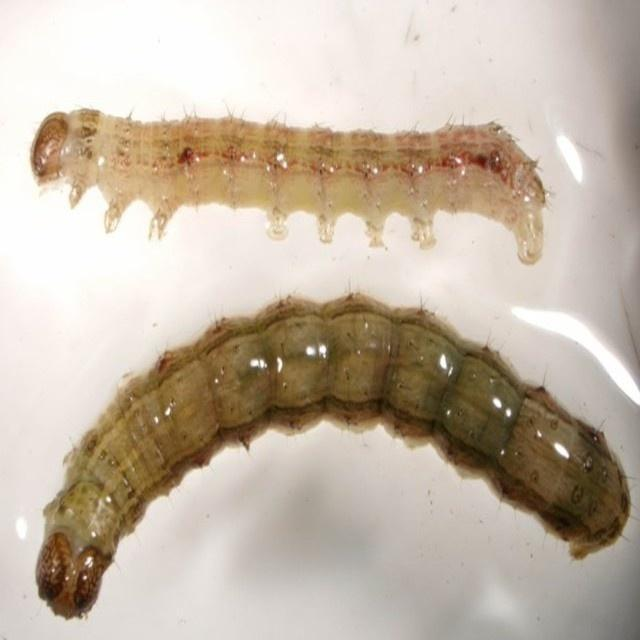gusano_cogollero: (30, 292, 630, 619), (21, 108, 546, 272)
